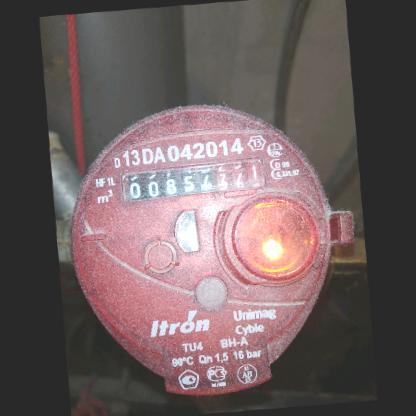digital_screen: (119, 162, 216, 205)
